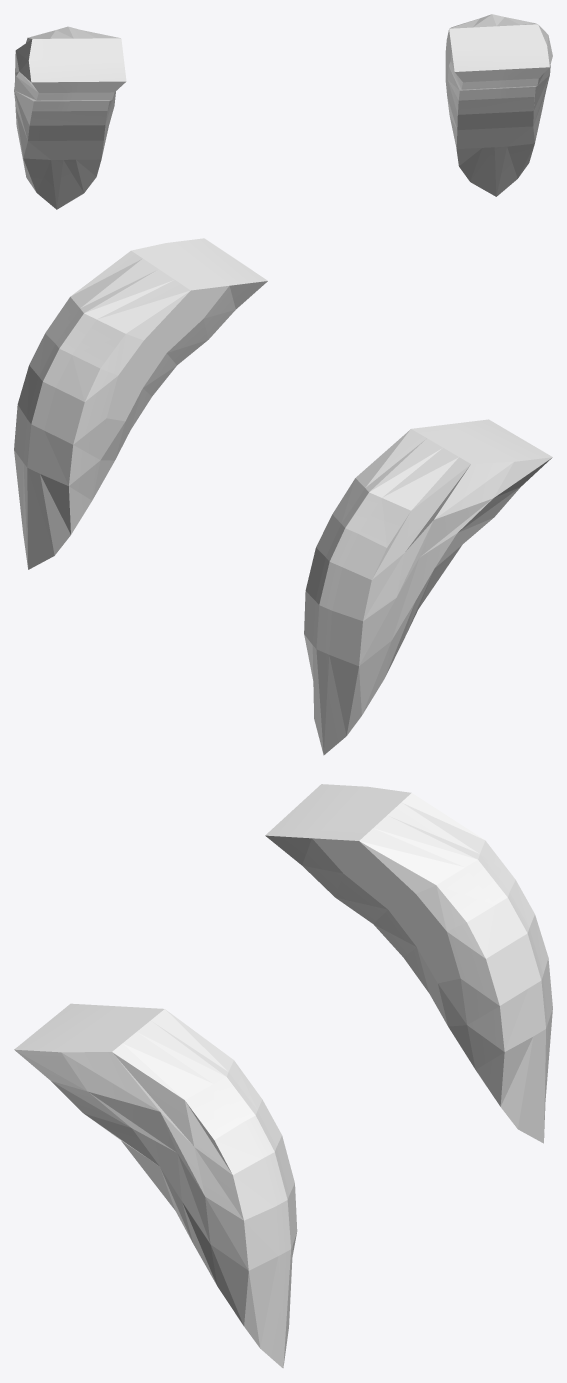
Rendered from VAMPIRE FANGS.fbx.
3 renders of one model, top to bottom at view 1: azimuth 30°, elevation 25°; view 2: azimuth 150°, elevation 25°; view 3: azimuth 270°, elevation 25°, orthographic. The views are drawn at different scales.
Visible parts, largest first — view 1: VAMPIRE_FANGS; view 2: VAMPIRE_FANGS; view 3: VAMPIRE_FANGS.
Boxes of the visible parts, bbox=[...] form: VAMPIRE_FANGS: bbox=[14, 14, 552, 209]; VAMPIRE_FANGS: bbox=[14, 238, 552, 755]; VAMPIRE_FANGS: bbox=[14, 784, 552, 1368].
Bounding box in the file's own units: 6.77 × 3.05 × 4.93.
